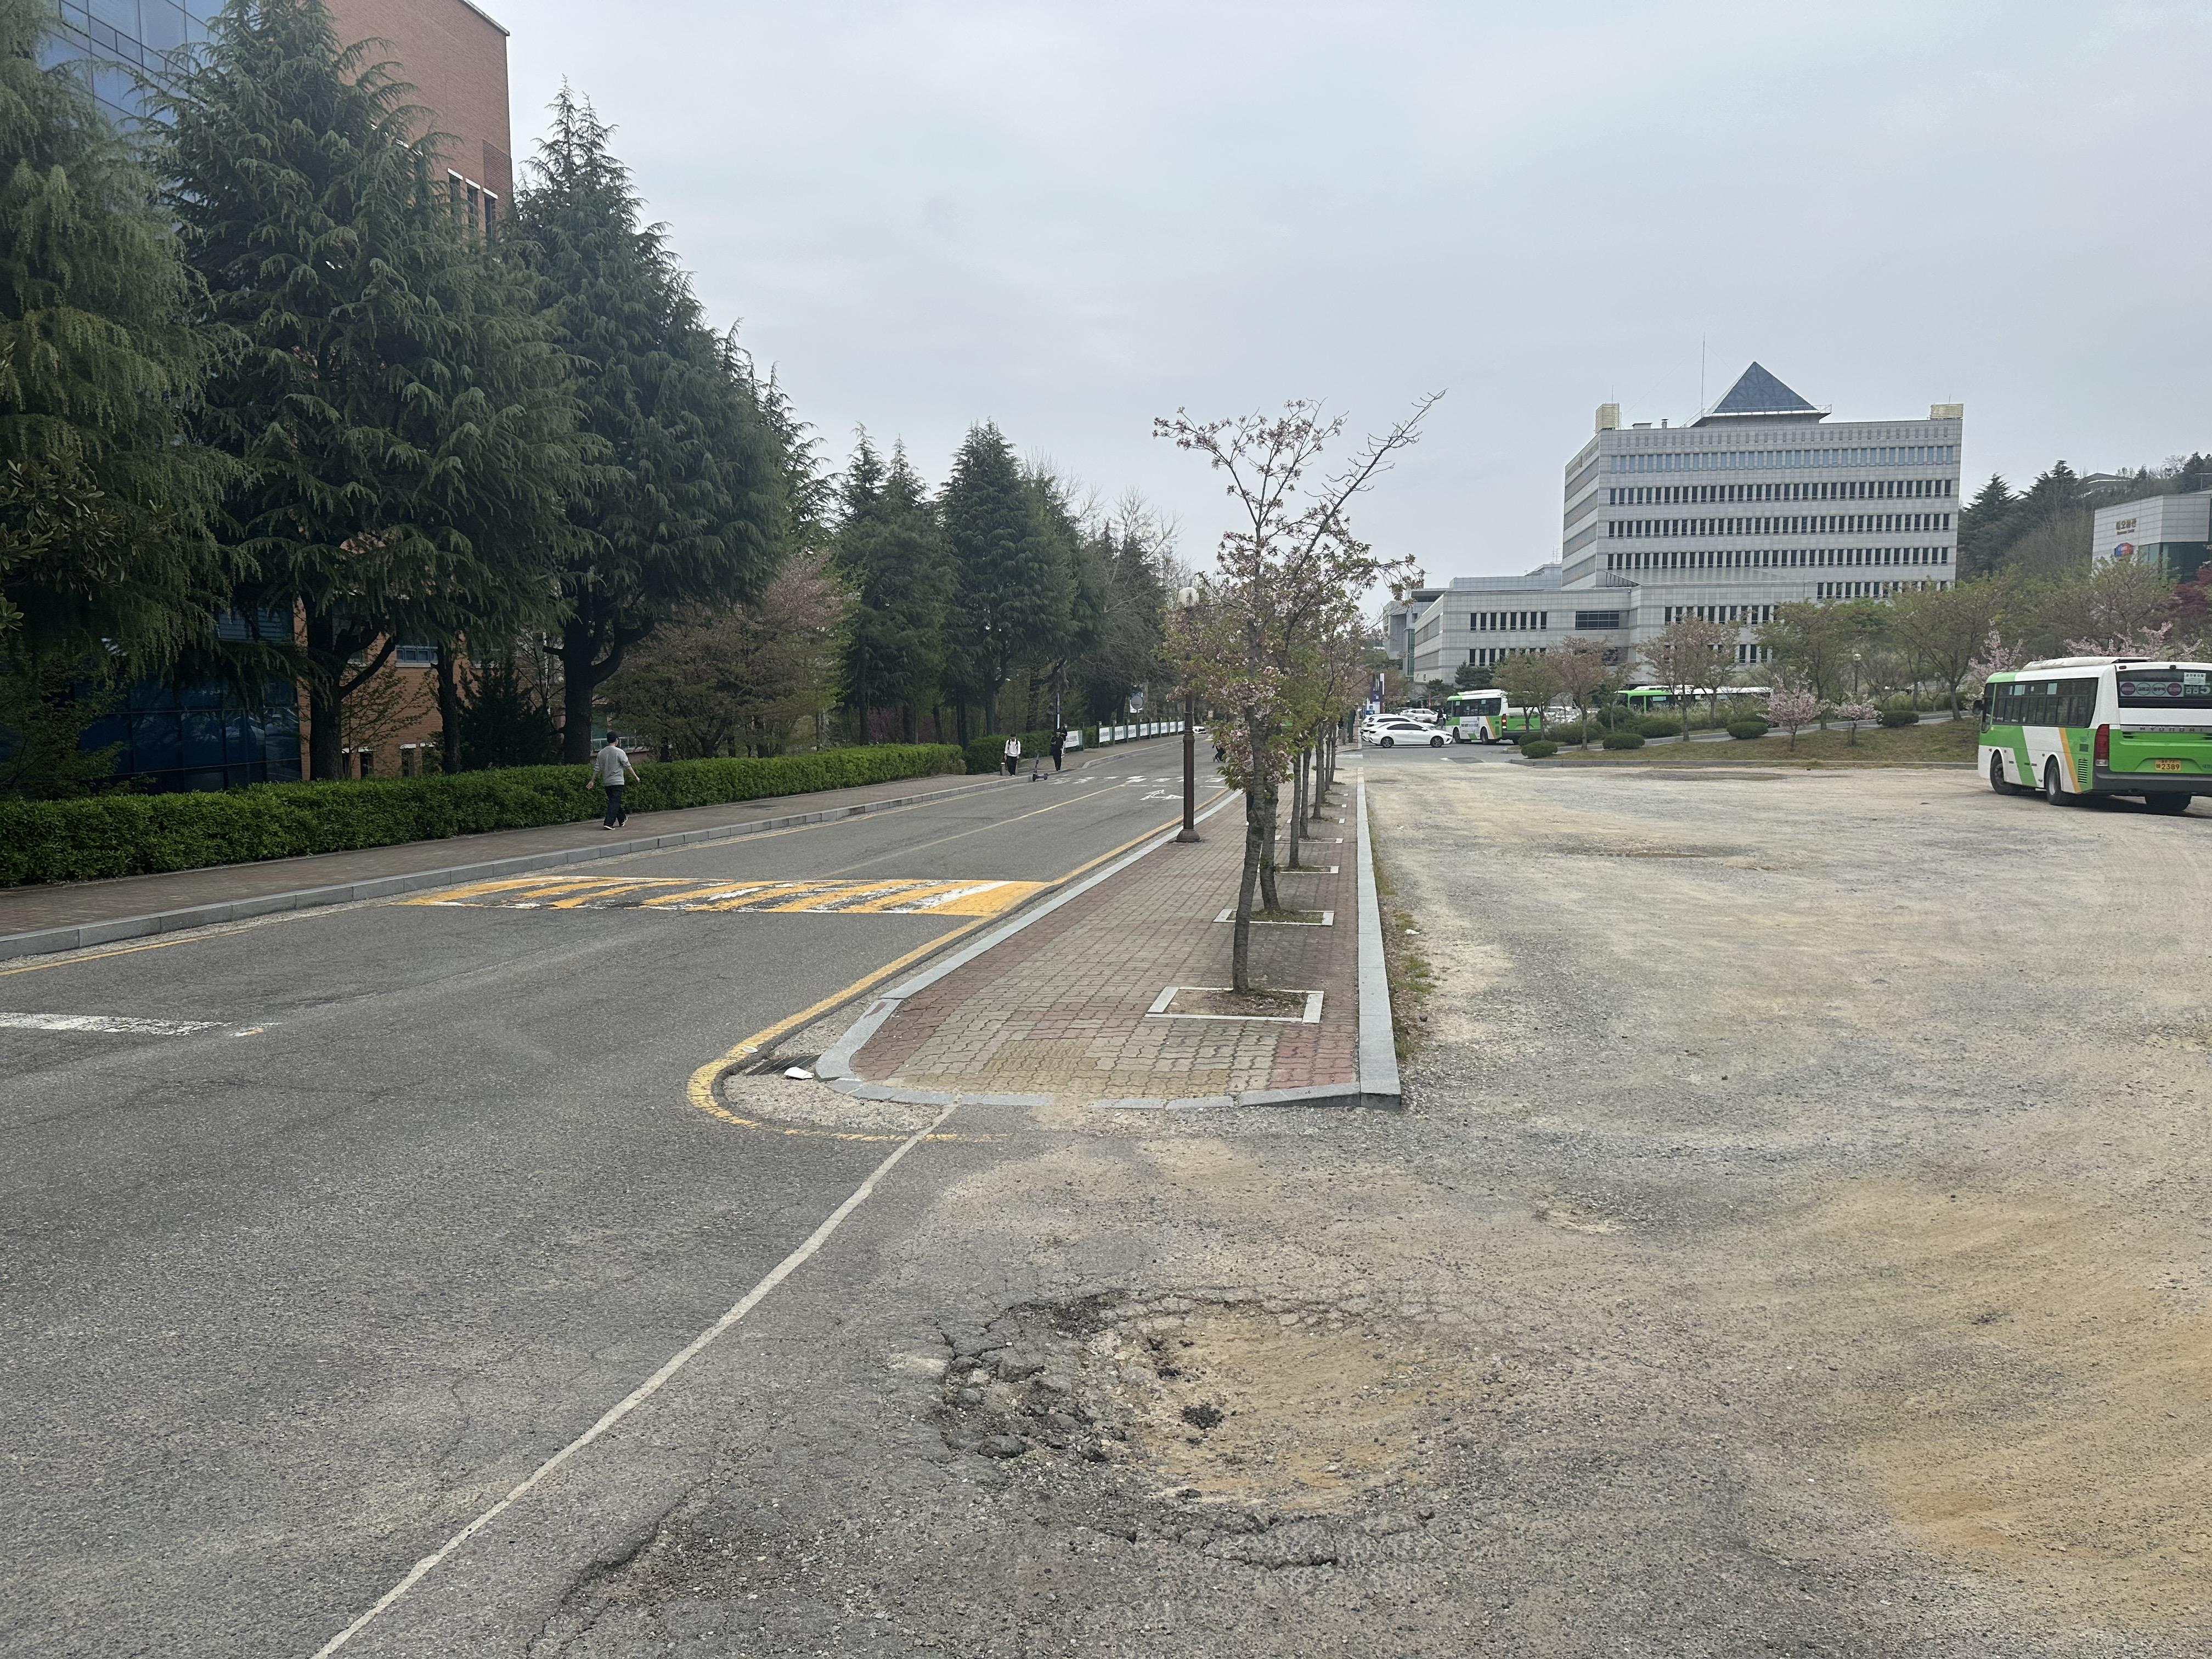pothole: (930, 1265, 1571, 1582)
